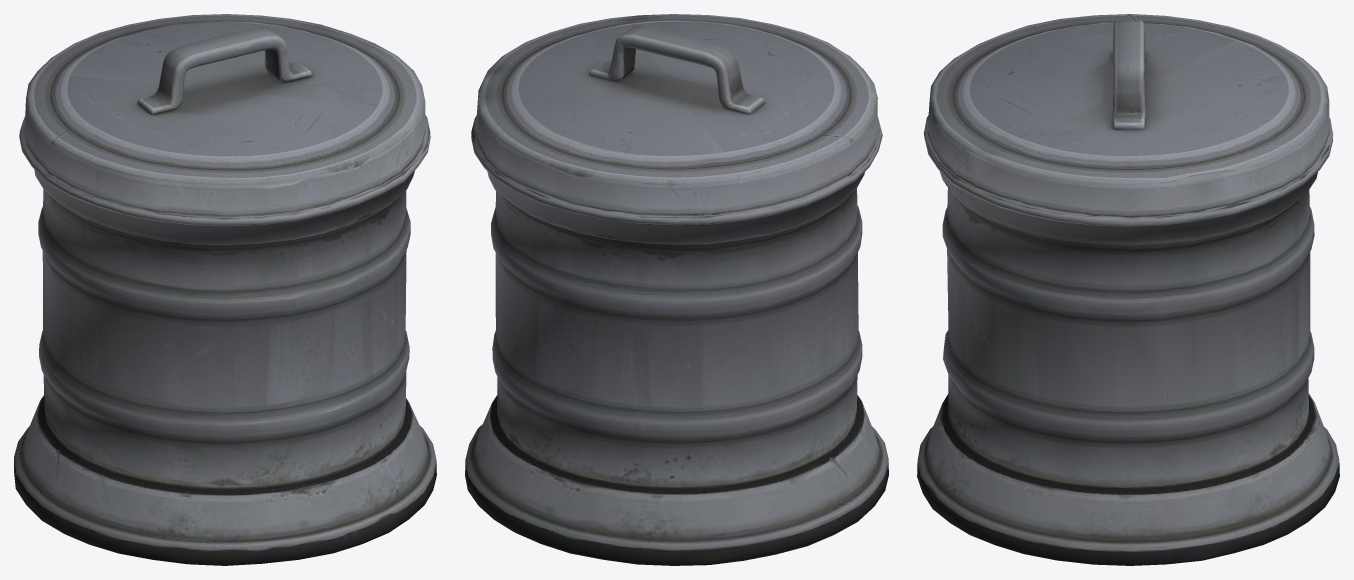
The model's file is trash.glb.
3 views of the same model, side by side, from view 1: azimuth 30°, elevation 25°; view 2: azimuth 150°, elevation 25°; view 3: azimuth 270°, elevation 25° (orthographic).
Parts seen in each view (by area): view 1: trash; view 2: trash; view 3: trash.
Part boxes in pixels (x1=…): trash: x1=14, y1=14, x2=436, y2=565; trash: x1=465, y1=14, x2=888, y2=565; trash: x1=917, y1=14, x2=1339, y2=565.
Size of the model in its own units: 0.74 by 0.845 by 0.74.
1 material, 1 textured.
